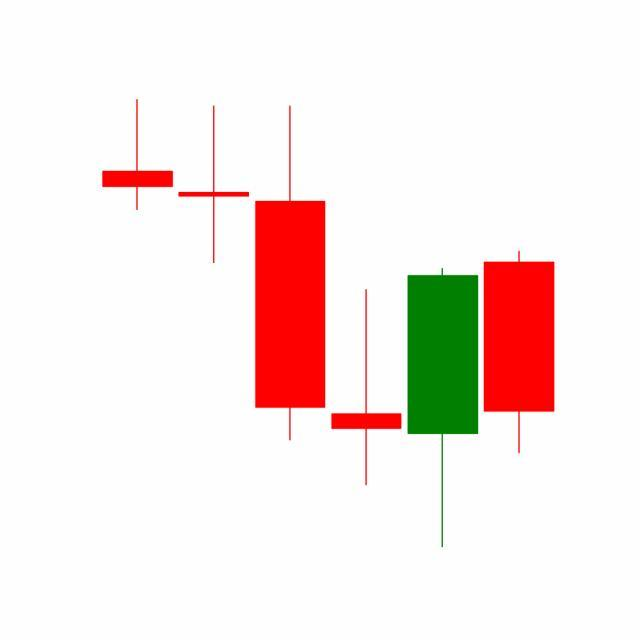Morning Star: (252, 101, 482, 548)
